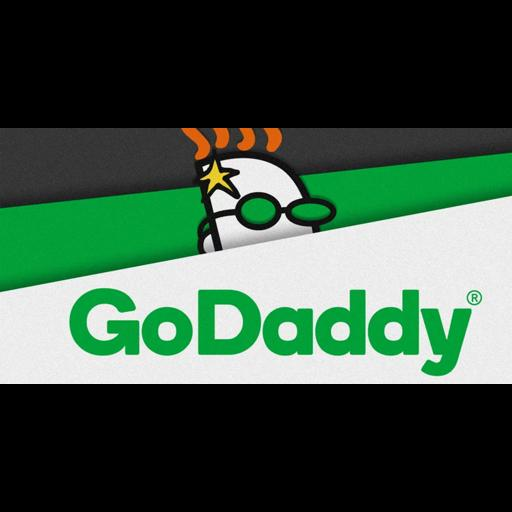GoDaddy: (0, 128, 512, 384)
